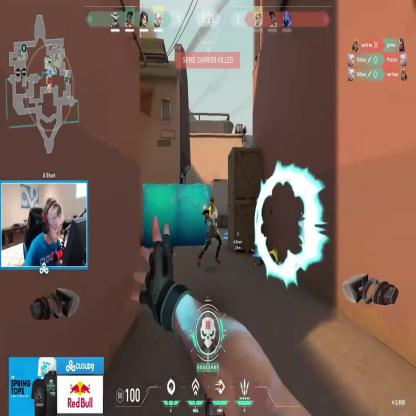enemy: (198, 196, 222, 267)
enemy_head: (210, 197, 214, 209)
